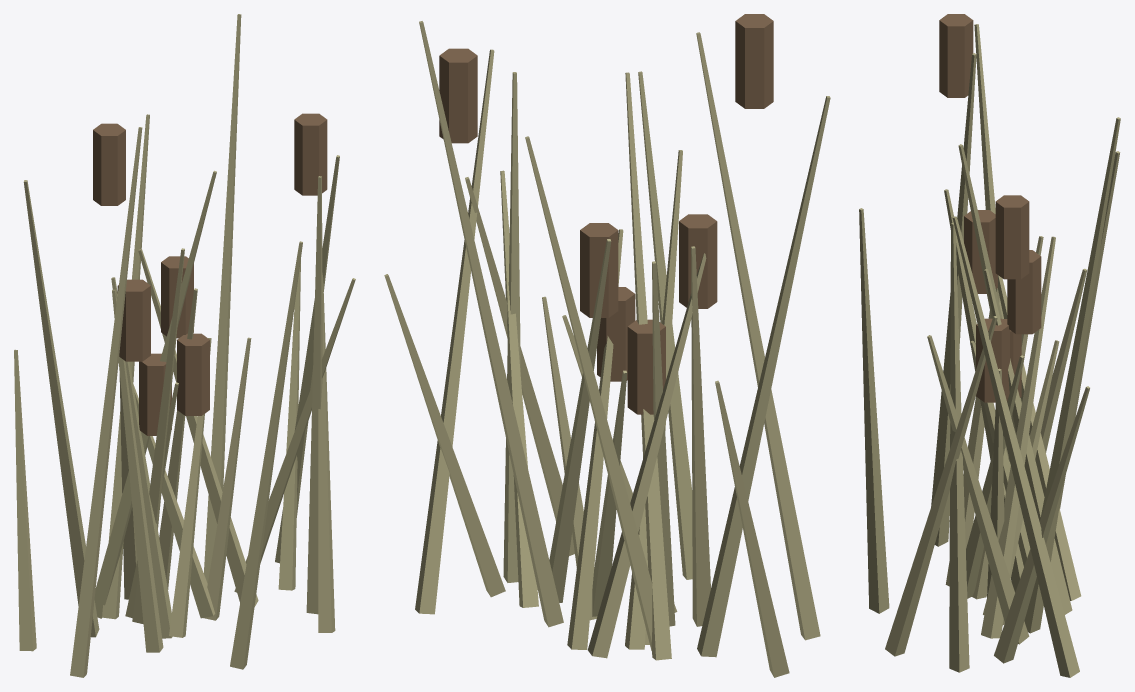
Rendered from reeds.glb.
3 renders of one model, left to right at view 1: azimuth 30°, elevation 25°; view 2: azimuth 150°, elevation 25°; view 3: azimuth 270°, elevation 25°, orthographic. The views are drawn at different scales.
Parts seen in each view (by area): view 1: reeds; view 2: reeds; view 3: reeds.
Part boxes in pixels (x1,y1,x2,y2): reeds: [14, 14, 355, 677]; reeds: [384, 14, 830, 677]; reeds: [859, 14, 1120, 677].
Size of the model in its own units: 0.694 by 1.08 by 0.4636.
